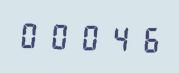four: (102, 20, 129, 54)
six: (130, 21, 157, 55)
zero: (18, 17, 45, 51), (46, 18, 73, 52), (74, 19, 101, 53)
